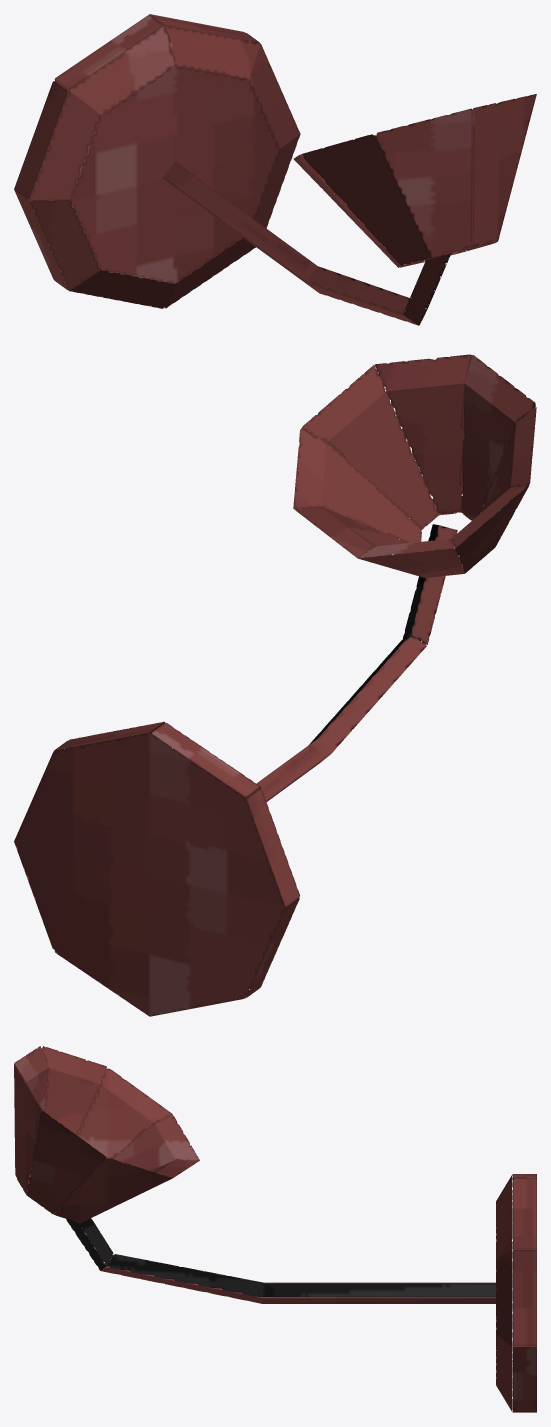
File: pz_house_lamp_red.obj
3 renders of one model, top to bottom at view 1: azimuth 30°, elevation 25°; view 2: azimuth 150°, elevation 25°; view 3: azimuth 270°, elevation 25°, orthographic. The views are drawn at different scales.
Parts seen in each view (by area): view 1: pz_house_lamp_red_|_1_parte_1, pz_house_lamp_red_|_3_parte_3, pz_house_lamp_red_|_2_parte_2; view 2: pz_house_lamp_red_|_1_parte_1, pz_house_lamp_red_|_3_parte_3, pz_house_lamp_red_|_2_parte_2; view 3: pz_house_lamp_red_|_3_parte_3, pz_house_lamp_red_|_2_parte_2, pz_house_lamp_red_|_1_parte_1.
Boxes of the visible parts, left/top/right/bottom form: pz_house_lamp_red_|_1_parte_1: left=14, top=14, right=300, bottom=308; pz_house_lamp_red_|_3_parte_3: left=293, top=94, right=536, bottom=267; pz_house_lamp_red_|_2_parte_2: left=162, top=162, right=451, bottom=325; pz_house_lamp_red_|_1_parte_1: left=14, top=721, right=299, bottom=1016; pz_house_lamp_red_|_3_parte_3: left=293, top=354, right=536, bottom=577; pz_house_lamp_red_|_2_parte_2: left=256, top=524, right=457, bottom=801; pz_house_lamp_red_|_3_parte_3: left=14, top=1046, right=199, bottom=1222; pz_house_lamp_red_|_2_parte_2: left=66, top=1218, right=496, bottom=1303; pz_house_lamp_red_|_1_parte_1: left=496, top=1174, right=536, bottom=1412.
Size of the model in its own units: 0.26 by 0.39 by 0.5353.
1 material, 1 textured.
